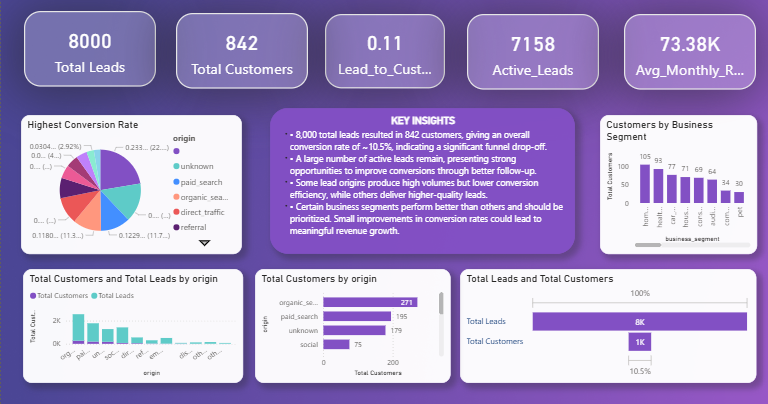

Layout of this report page (visuals, bound fields, positions):
{"tool":"powerbi","page":{"name":"Page 1","canvas":[1280,720],"ordinal":0},"visuals":[{"type":"card","fields":{"Values":["olist_marketing_qualified_leads_dataset.Total Leads"]},"box":[38,24,220,126],"z":0},{"type":"card","title":"Lead","fields":{"Values":["olist_marketing_qualified_leads_dataset.Lead_to_Customer_Percent"]},"box":[540,28,200,124],"z":1000},{"type":"card","fields":{"Values":["olist_closed_deals_dataset.Total Customers"]},"box":[292,26,220,126],"z":2000},{"type":"funnel","fields":{"Y":["olist_marketing_qualified_leads_dataset.Total Leads","olist_closed_deals_dataset.Total Customers"]},"box":[764.8,454.1,494.4,189.7],"z":3000},{"type":"clusteredBarChart","fields":{"Category":["olist_marketing_qualified_leads_dataset.origin"],"Y":["olist_closed_deals_dataset.Total Customers"]},"box":[422.7,454.1,325.6,189.7],"z":4000},{"type":"columnChart","fields":{"Category":["olist_marketing_qualified_leads_dataset.origin"],"Y":["olist_closed_deals_dataset.Total Customers","olist_marketing_qualified_leads_dataset.Total Leads"]},"box":[37.3,454.1,367.5,189.7],"z":5000},{"type":"pieChart","title":"Highest Conversion Rate","fields":{"Category":["olist_marketing_qualified_leads_dataset.origin"],"Y":["olist_closed_deals_dataset.Conversion_Percent_By_Channel"]},"box":[33.3,196.7,368.3,231.7],"z":6000},{"type":"card","fields":{"Values":["olist_marketing_qualified_leads_dataset.Active_Leads"]},"box":[776,28,220,126],"z":7000},{"type":"card","title":"active leads","fields":{"Values":["olist_closed_deals_dataset.Avg_Monthly_Revenue"]},"box":[1038,28,220,126],"z":8000},{"type":"clusteredColumnChart","title":"Customers by Business Segment","fields":{"Category":["olist_closed_deals_dataset.business_segment"],"Y":["olist_closed_deals_dataset.Total Customers"]},"box":[998.3,196.7,261.7,231.7],"z":9000},{"type":"textbox","title":"KEY INSIGHTS","box":[448.3,185,508.3,243.3],"z":10000}]}

Visuals, with their boxes on the page's 1280x720 design canvas (x1, y1, x2, y2). These are canvas units, not pixel positions in the 768x404 screenshot, which may show the page scaled, cropped or inside an application window:
card - olist_marketing_qualified_leads_dataset.Total Leads: [left=38, top=24, right=258, bottom=150]
"Lead" card: [left=540, top=28, right=740, bottom=152]
card - olist_closed_deals_dataset.Total Customers: [left=292, top=26, right=512, bottom=152]
funnel - olist_marketing_qualified_leads_dataset.Total Leads x olist_closed_deals_dataset.Total Customers: [left=765, top=454, right=1259, bottom=644]
clusteredBarChart - olist_marketing_qualified_leads_dataset.origin x olist_closed_deals_dataset.Total Customers: [left=423, top=454, right=748, bottom=644]
columnChart - olist_marketing_qualified_leads_dataset.origin x olist_closed_deals_dataset.Total Customers: [left=37, top=454, right=405, bottom=644]
"Highest Conversion Rate" pieChart: [left=33, top=197, right=402, bottom=428]
card - olist_marketing_qualified_leads_dataset.Active_Leads: [left=776, top=28, right=996, bottom=154]
"active leads" card: [left=1038, top=28, right=1258, bottom=154]
"Customers by Business Segment" clusteredColumnChart: [left=998, top=197, right=1260, bottom=428]
"KEY INSIGHTS" textbox: [left=448, top=185, right=957, bottom=428]
